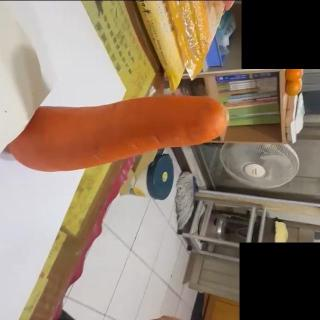carrot: (2, 93, 228, 173)
